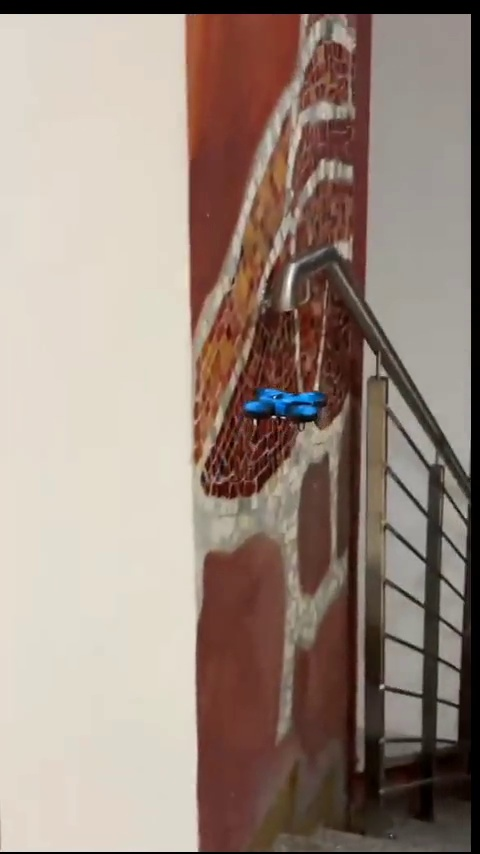drone: (243, 390, 327, 429)
